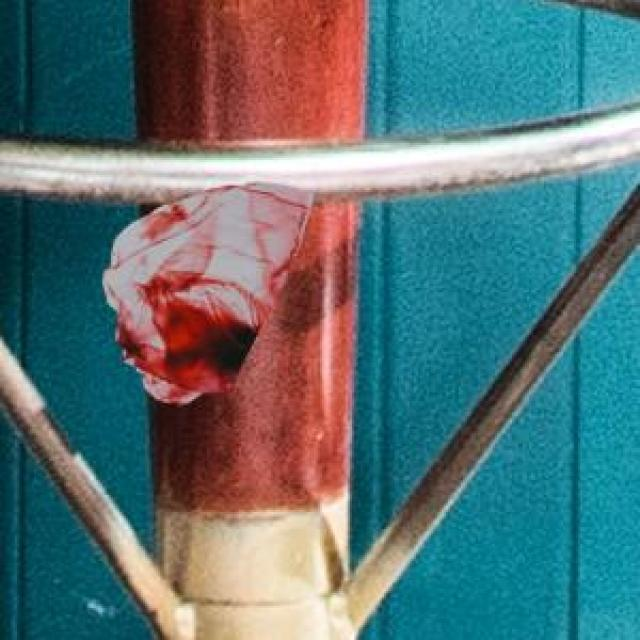waste: (102, 186, 310, 404)
